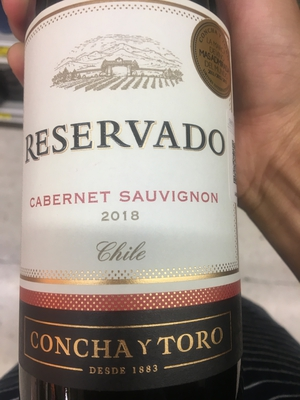reservado cabernet sauvignon: (18, 10, 246, 400)
